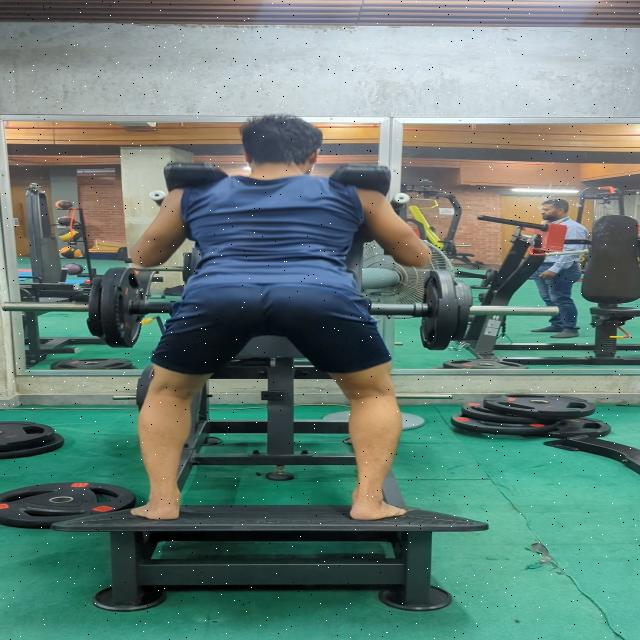Normal_SquatsWithBarbell: (101, 114, 456, 529)
